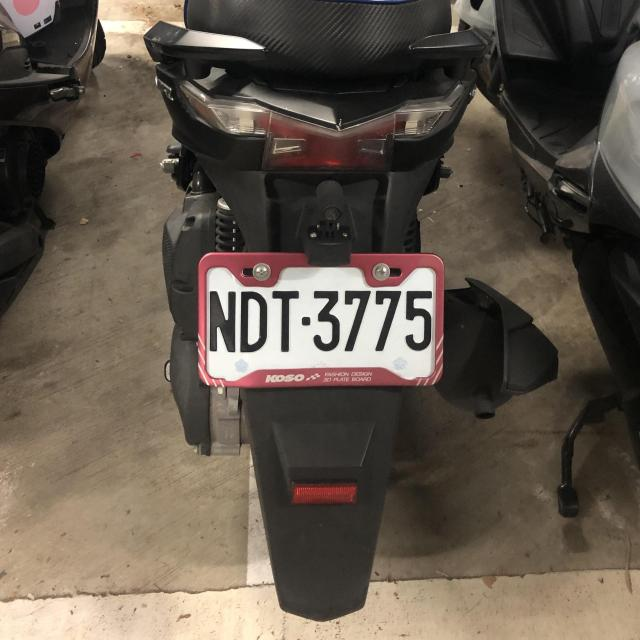W: (195, 251, 444, 390)
